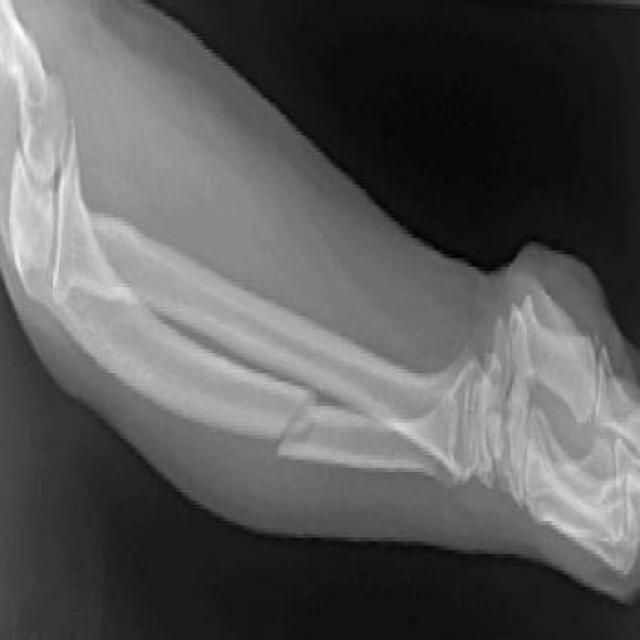Fracture: (272, 368, 324, 471)
